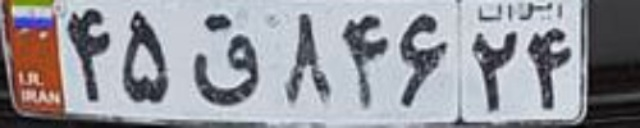2: (470, 29, 514, 112)
4: (338, 15, 385, 107), (65, 9, 108, 102), (526, 29, 572, 109)
5: (118, 9, 172, 103)
6: (395, 12, 448, 107)
8: (282, 12, 332, 108)
ghaf: (189, 13, 264, 107)
